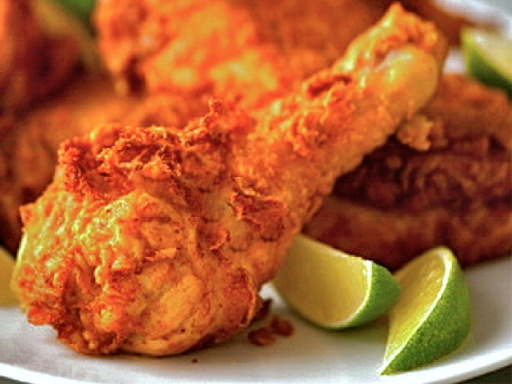background: (0, 0, 410, 225)
